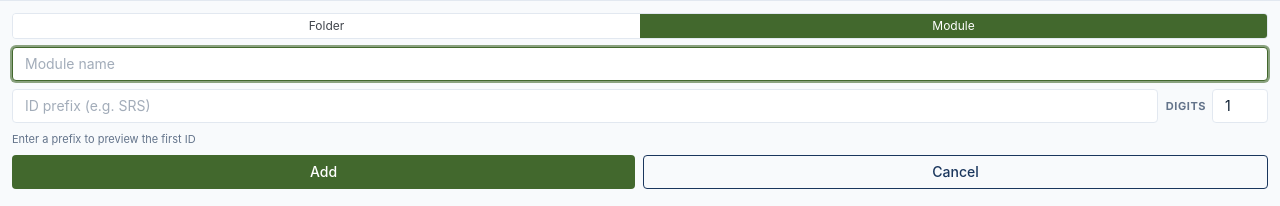
Test: NewModuleForm › previews the first ID from the typed prefix and digit count
Type "srs" into the field with placeholder "ID prefix (e.g. SRS)".
click(585, 106); type("srs")  # box top-left (12, 89), bottom-right (1158, 123)
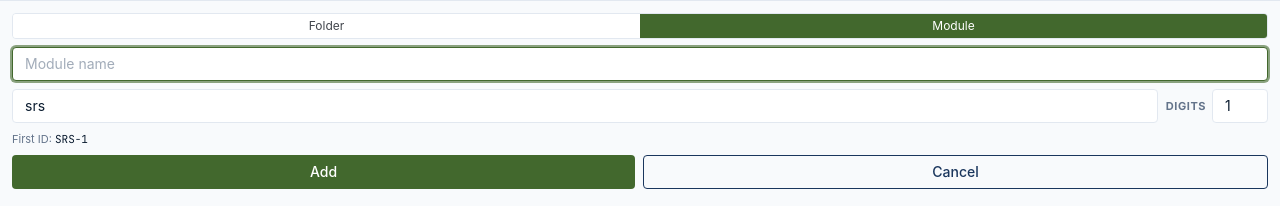
Expected: the text "SRS-1" is shown, top-left (55, 132), bottom-right (88, 146)
Replace the text in the number field titled "ID digit count" with "3" at (1240, 106), box top-left (1212, 89), bottom-right (1268, 123)
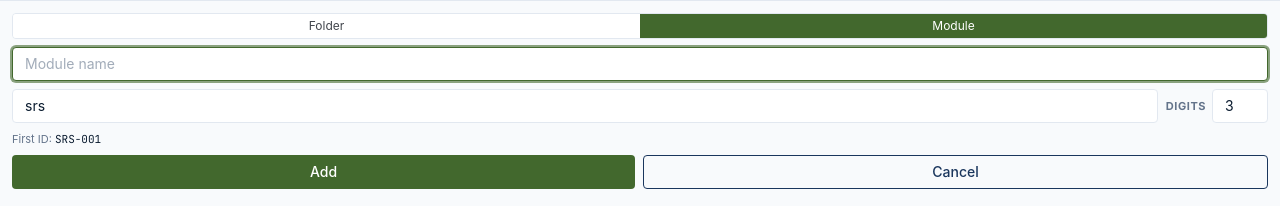
Expected: the text "SRS-001" is shown, top-left (55, 132), bottom-right (101, 146)
